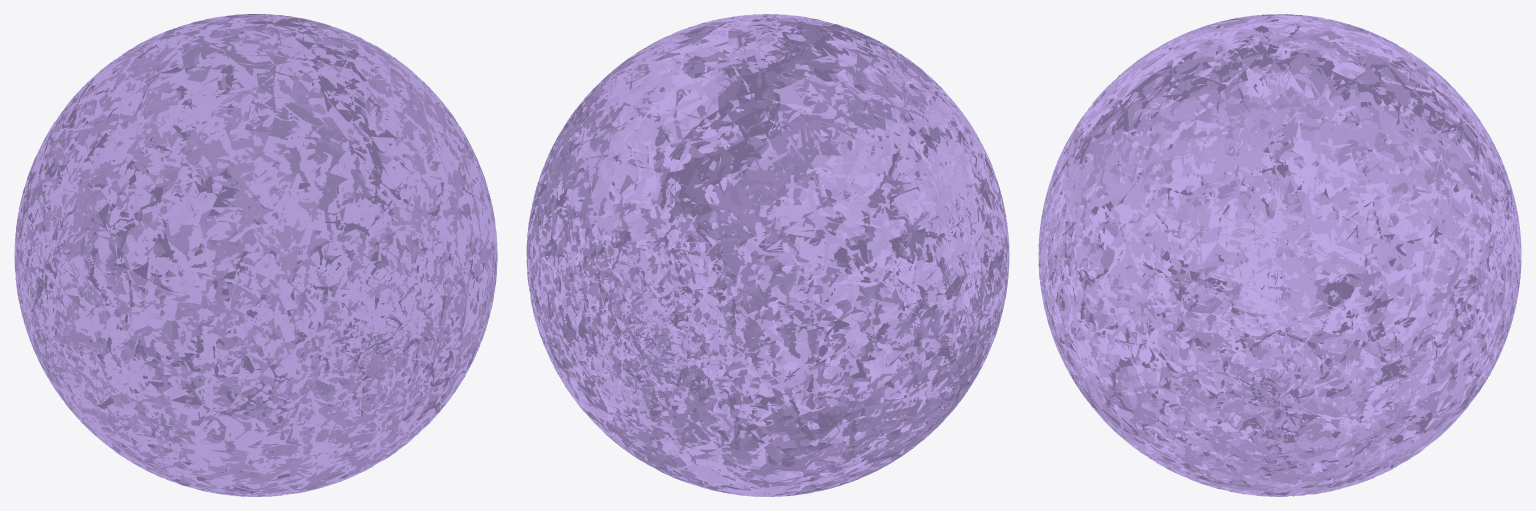
Rendered from lifting.glb.
The picture shows the model from 3 angles, left to right: view 1: azimuth 30°, elevation 25°; view 2: azimuth 150°, elevation 25°; view 3: azimuth 270°, elevation 25°; orthographic projection.
Visible parts, largest first — view 1: LQ-LIFT-lifting; view 2: LQ-LIFT-lifting; view 3: LQ-LIFT-lifting.
Part boxes in pixels (left/top/right/bottom): LQ-LIFT-lifting: left=14, top=14, right=497, bottom=496; LQ-LIFT-lifting: left=526, top=14, right=1009, bottom=496; LQ-LIFT-lifting: left=1038, top=14, right=1521, bottom=496.
Size of the model in its own units: 2 by 2 by 2.
